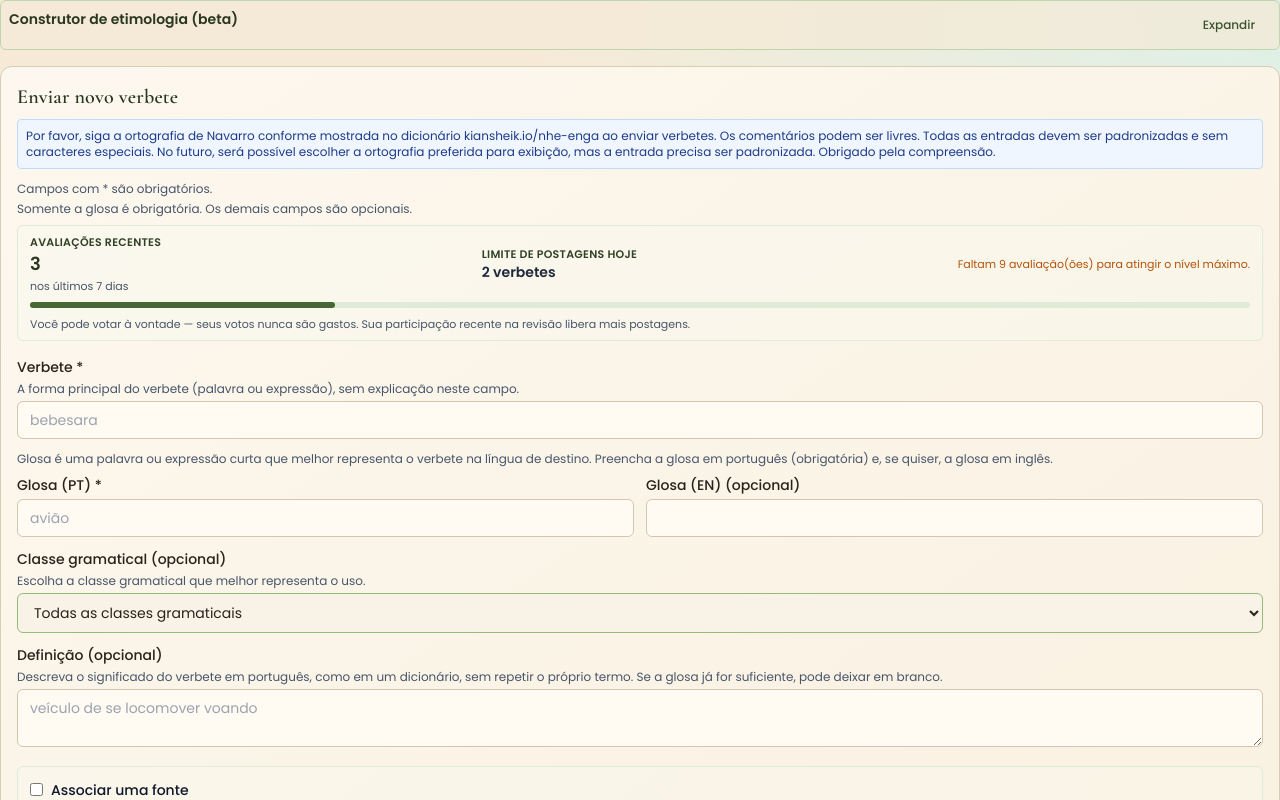
Test case: SubmitPage › shows duplicate warning as user types
Type "new" into the field labelled "Verbete *" at (640, 420), box [17,401,1263,439]
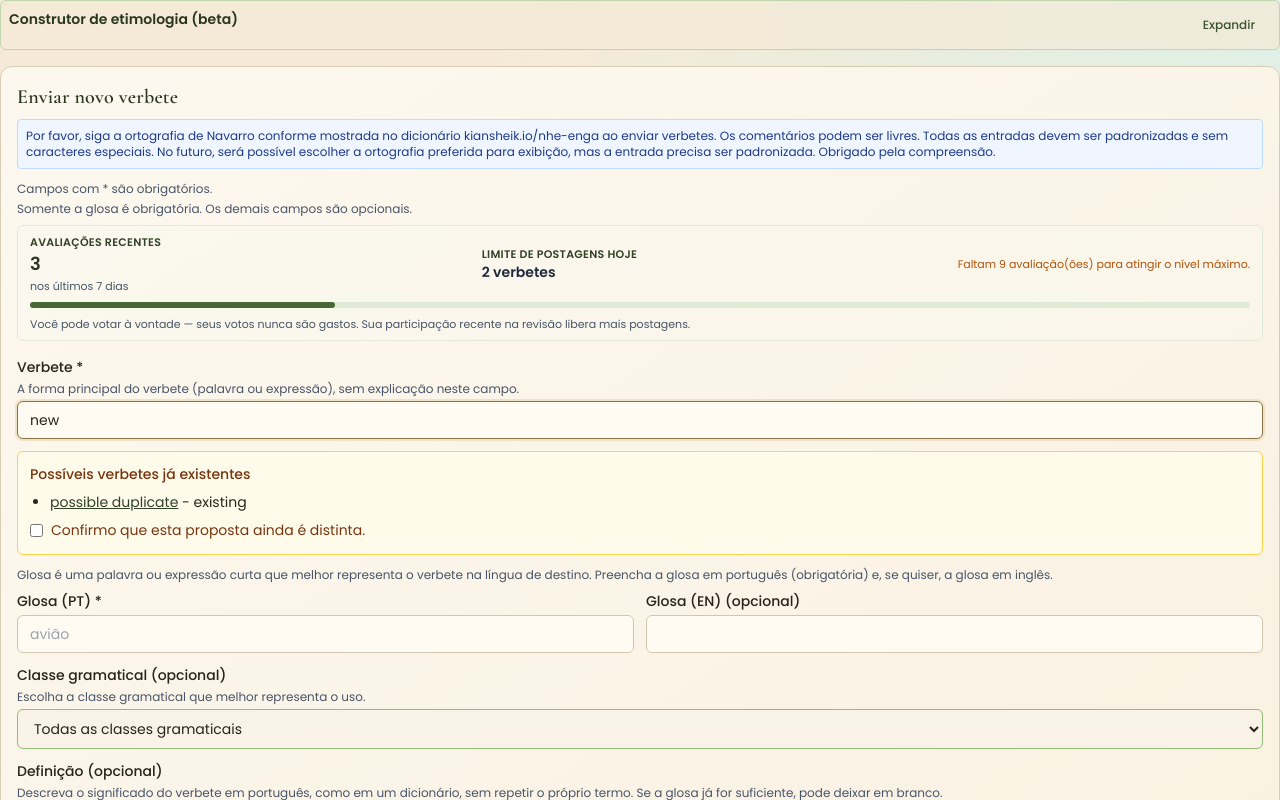
Expected: the element with test id "duplicate-warning" is shown, [17,451,1263,554]
